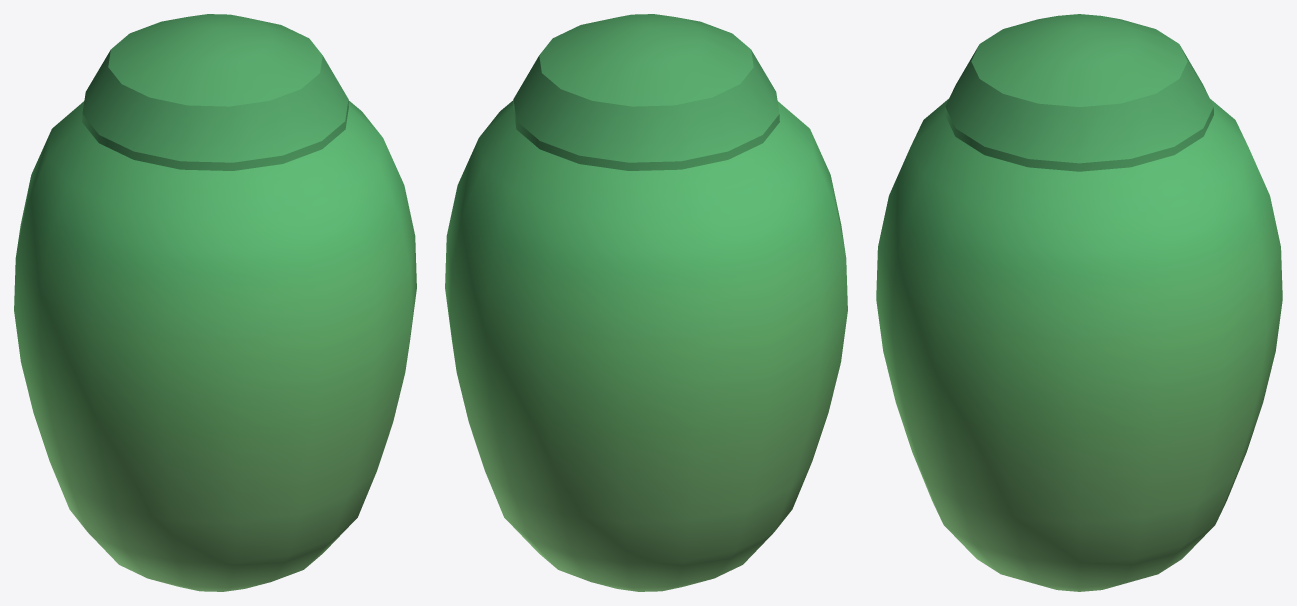
The model's file is Vase_Urn_Green.fbx.
3 views of the same model, side by side, from view 1: azimuth 30°, elevation 25°; view 2: azimuth 150°, elevation 25°; view 3: azimuth 270°, elevation 25° (orthographic).
Visible parts, largest first — view 1: Vase_Urn_Green; view 2: Vase_Urn_Green; view 3: Vase_Urn_Green.
Part boxes in pixels (x1,y1,x2,y2): Vase_Urn_Green: (14, 14, 416, 591); Vase_Urn_Green: (445, 14, 847, 591); Vase_Urn_Green: (876, 14, 1282, 591).
Size of the model in its own units: 26.1 by 38.19 by 26.1.
